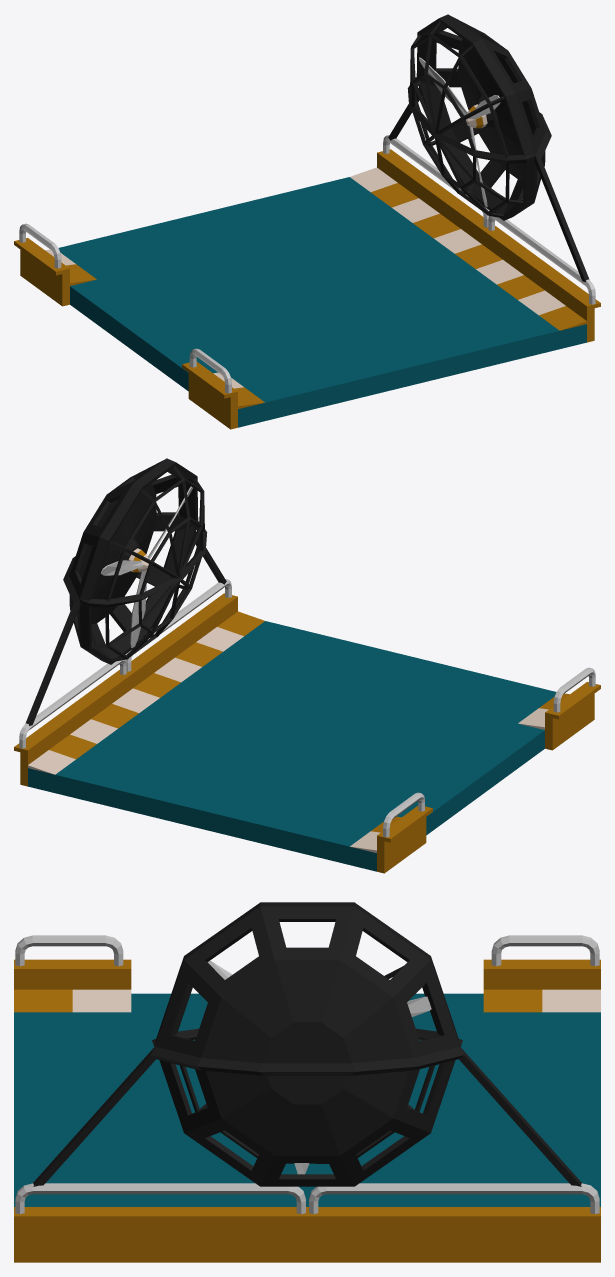
The model's file is fan.FBX.
The picture shows the model from 3 angles, top to bottom: view 1: azimuth 30°, elevation 25°; view 2: azimuth 150°, elevation 25°; view 3: azimuth 270°, elevation 25°; orthographic projection. The views are drawn at different scales.
Parts seen in each view (by area): view 1: fan, fanHousing, wall_l, curbs_l, wall_r, propeller, curbs_r; view 2: fan, fanHousing, wall_l, curbs_l, wall_r, propeller, curbs_r; view 3: fan, fanHousing, wall_l, wall_r, curbs_r, propeller.
Part boxes in pixels (x1=…): fan: x1=58, y1=177, x2=586, y2=427; fanHousing: x1=388, y1=14, x2=589, y2=281; wall_l: x1=377, y1=135, x2=600, y2=342; curbs_l: x1=350, y1=167, x2=586, y2=330; wall_r: x1=14, y1=223, x2=237, y2=429; propeller: x1=419, y1=57, x2=500, y2=207; curbs_r: x1=45, y1=249, x2=264, y2=409; fan: x1=28, y1=621, x2=556, y2=871; fanHousing: x1=25, y1=458, x2=226, y2=725; wall_l: x1=14, y1=579, x2=237, y2=786; curbs_l: x1=28, y1=611, x2=264, y2=774; wall_r: x1=377, y1=667, x2=600, y2=873; propeller: x1=101, y1=486, x2=192, y2=647; curbs_r: x1=350, y1=693, x2=569, y2=852; fan: x1=14, y1=993, x2=600, y2=1206; fanHousing: x1=33, y1=902, x2=581, y2=1186; wall_l: x1=14, y1=1183, x2=600, y2=1262; wall_r: x1=14, y1=935, x2=600, y2=989; curbs_r: x1=14, y1=989, x2=600, y2=1012; propeller: x1=207, y1=961, x2=431, y2=1174.
Size of what is drawn, in the model's own units: 223 by 200 by 128.
